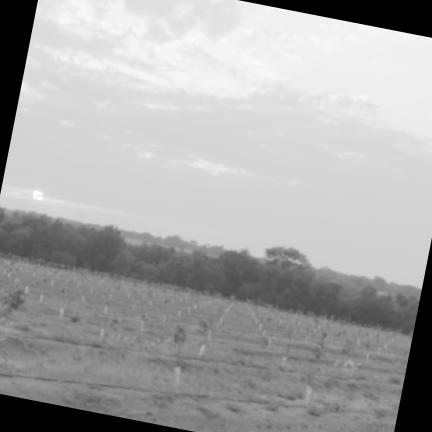Shahed: (173, 262, 180, 265)
